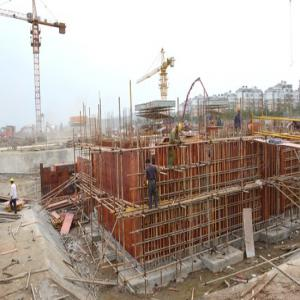none: (146, 159, 151, 168)
yellow: (177, 124, 183, 133), (10, 178, 15, 186), (237, 107, 242, 114)
